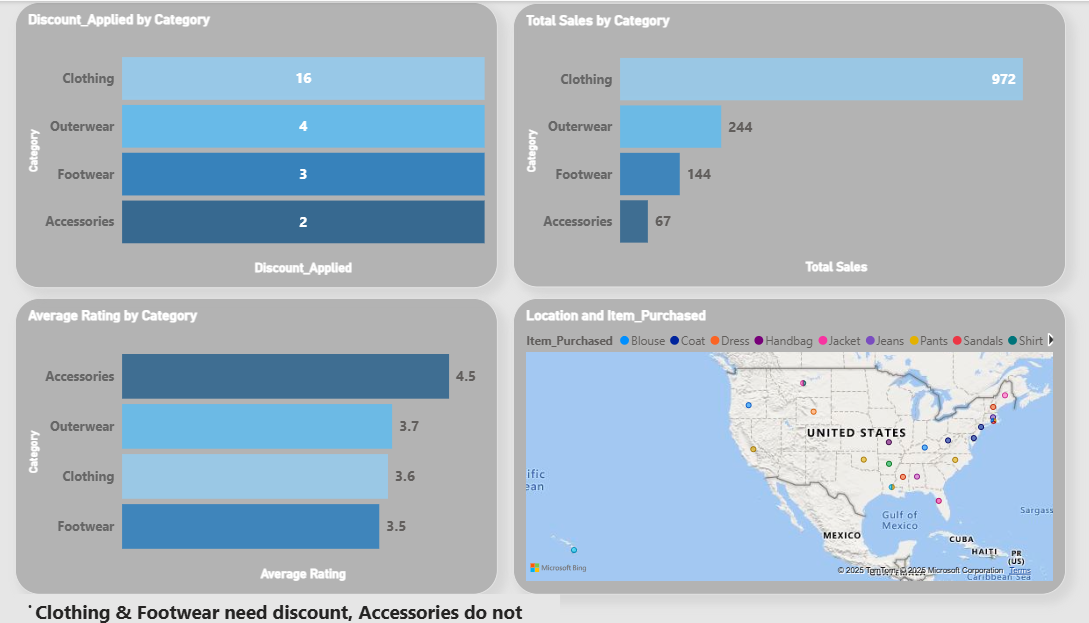

The dashboard page shown, as its layout file describes it:
{"tool":"powerbi","page":{"name":"Product & Discount","canvas":[1280,720],"ordinal":1},"visuals":[{"type":"barChart","fields":{"Category":["Cleaned_Data.Category"],"Y":["Cleaned_Data.Total Sales"]},"box":[585.6,2.3,630,323.5],"z":0},{"type":"clusteredBarChart","fields":{"Category":["Cleaned_Data.Category"],"Y":["Cleaned_Data.Average Rating"]},"box":[18.8,338.8,550,337.5],"z":1000},{"type":"hundredPercentStackedBarChart","fields":{"Y":["CountNonNull(Cleaned_Data.Discount_Applied)"],"Category":["Cleaned_Data.Category"]},"box":[18.6,1.2,550,325.6],"z":2000},{"type":"map","fields":{"Series":["Cleaned_Data.Item_Purchased"],"Category":["Cleaned_Data.Location"]},"box":[585,338.8,630,337.5],"z":3000},{"type":"textbox","box":[18.6,675.6,620.9,44.2],"z":4000}]}

Visuals, with their boxes in screenshot pixels (x1, y1, x2, y2), scaled from the page's 1280x720 canvas onto the 1089x623 screenshot:
barChart - Cleaned_Data.Category x Cleaned_Data.Total Sales: 498, 2, 1034, 282
clusteredBarChart - Cleaned_Data.Category x Cleaned_Data.Average Rating: 16, 293, 484, 585
hundredPercentStackedBarChart - CountNonNull(Cleaned_Data.Discount_Applied) x Cleaned_Data.Category: 16, 1, 484, 283
map - Cleaned_Data.Item_Purchased x Cleaned_Data.Location: 498, 293, 1034, 585
textbox: 16, 585, 544, 622
